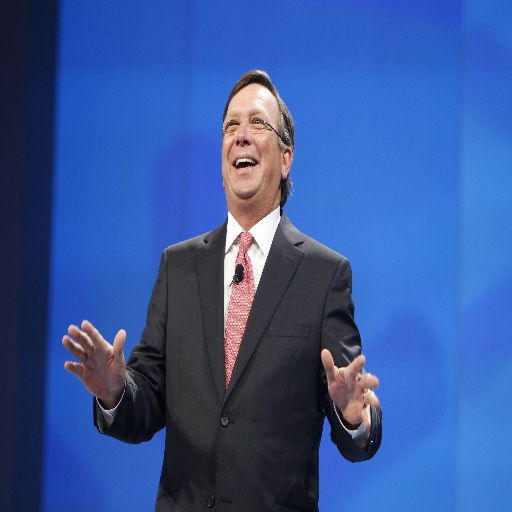hand: (320, 347, 380, 431), (64, 321, 128, 389)
